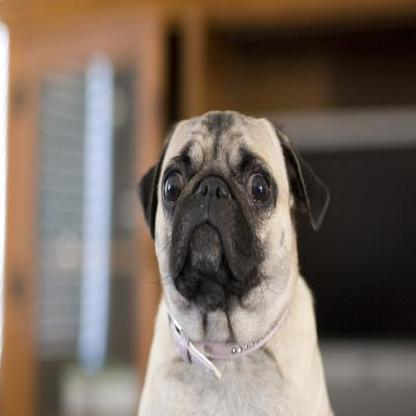pug: (132, 106, 334, 412)
